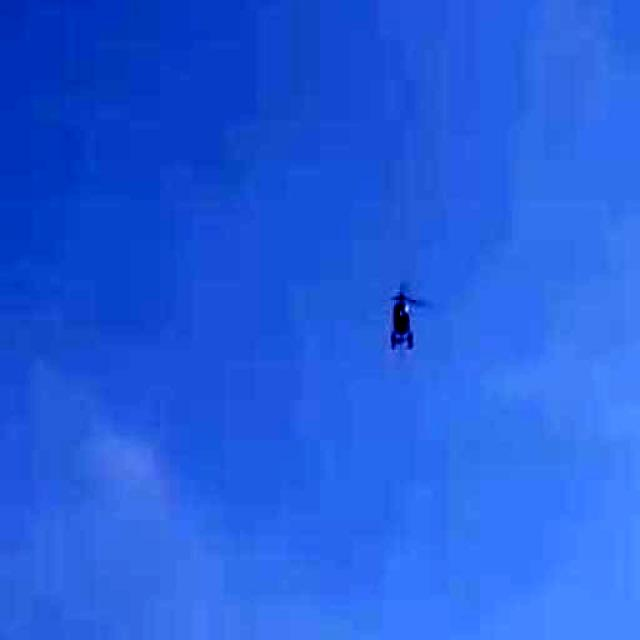drone: (332, 228, 484, 406)
